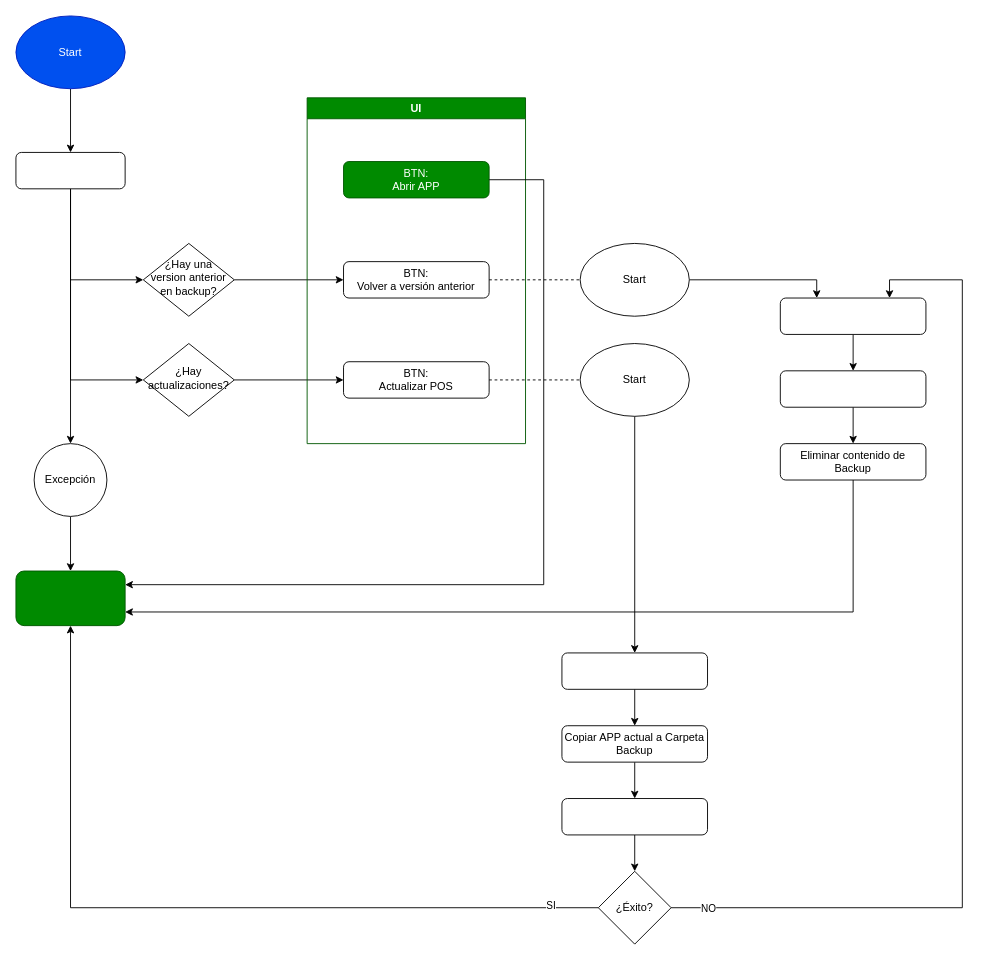
Image size: 986x960. Some labels were removed from this diagram. The centre of each missing label's shape, as x and y in pixels:
"Abrir POS" goes at point (70, 598).
"Copiar Backup a Carpeta actual" goes at point (852, 388).
"Descargar APP nueva versión" goes at point (634, 816).
"Eliminar contenido carpeta Backup" goes at point (634, 670).
"Eliminar contenido carpeta de versión actual" goes at point (852, 315).
"revisa actualizaciones" goes at point (70, 170).
